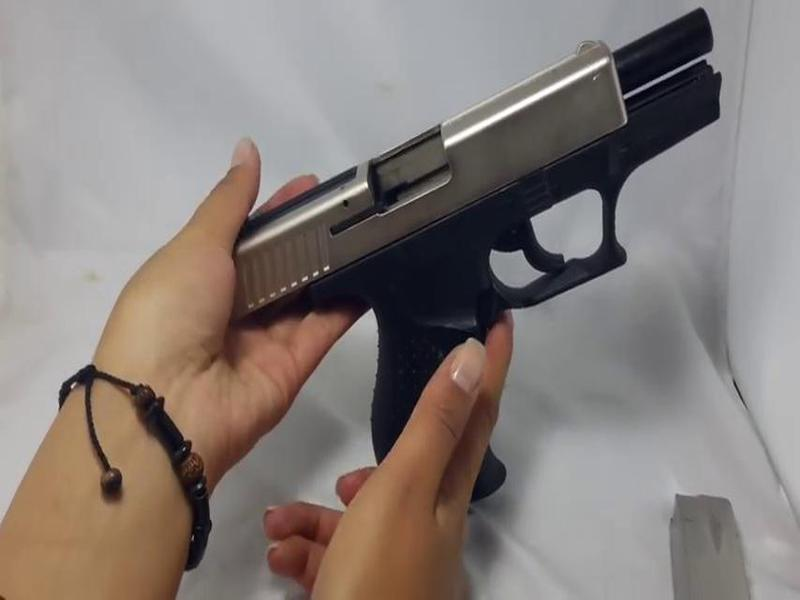Pistola: (201, 5, 747, 497)
